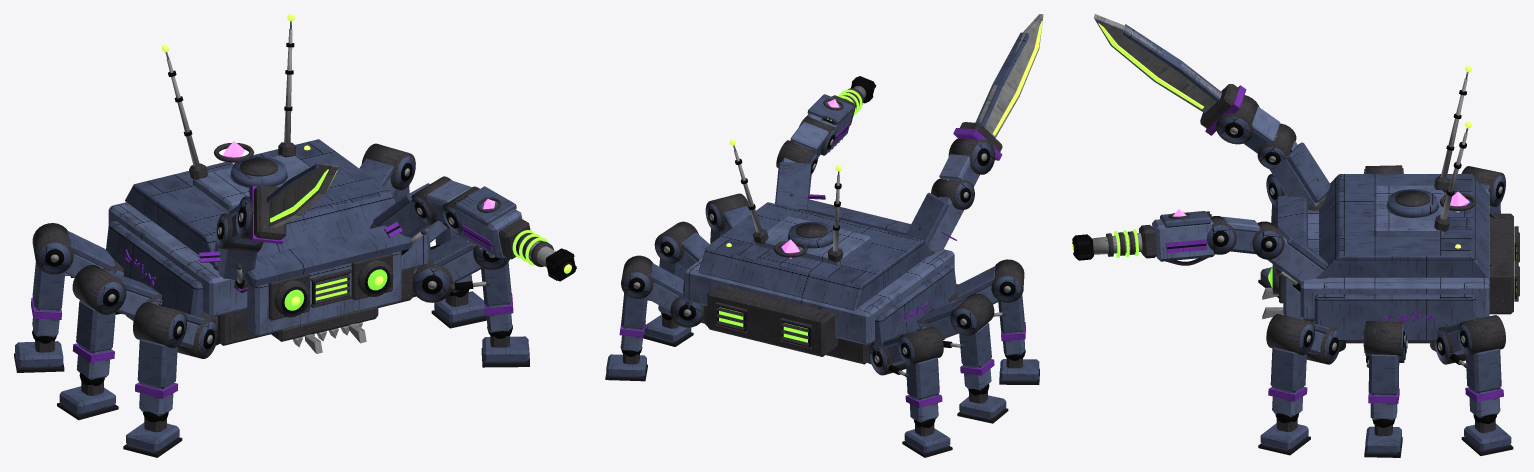
Rendered from alien_snapper.glb.
3 renders of one model, left to right at view 1: azimuth 30°, elevation 25°; view 2: azimuth 150°, elevation 25°; view 3: azimuth 270°, elevation 25°, orthographic. The views are drawn at different scales.
Visible parts, largest first — view 1: body_snapper_armor2, body_snapper_armor, body_snapper_frame, leg_R2_tibia_snapper_armor2, leg_R1_tibia_snapper_armor2, blade_R_snapper_metal, leg_R3_tibia_snapper_armor2, gun_L_snapper_frame, leg_R1_tibia_snapper_frame, gun_L_snapper_armor2, leg_L1_femur_snapper_armor2, blade_R_snapper_frame (+24 smaller); view 2: body_snapper_armor2, body_snapper_frame, body_snapper_armor, blade_R_snapper_metal, arm_L_snapper_armor2, leg_R3_tibia_snapper_armor2, leg_R2_tibia_snapper_armor2, blade_R_snapper_armor2, arm_R_snapper_armor2, leg_R1_tibia_snapper_armor2, leg_L3_tibia_snapper_armor2, leg_R3_tibia_snapper_frame (+29 smaller); view 3: body_snapper_armor2, body_snapper_armor, body_snapper_frame, blade_R_snapper_metal, blade_R_snapper_armor2, leg_L1_tibia_snapper_armor2, leg_L3_tibia_snapper_armor2, gun_L_snapper_armor, blade_R_snapper_frame, leg_L2_tibia_snapper_armor2, gun_L_snapper_frame, arm_R_snapper_armor2 (+22 smaller).
Part boxes in pixels (bbox=[...]): body_snapper_armor2: bbox=[106, 139, 431, 316]; body_snapper_armor: bbox=[108, 155, 428, 336]; body_snapper_frame: bbox=[214, 143, 413, 345]; leg_R2_tibia_snapper_armor2: bbox=[76, 282, 124, 353]; leg_R1_tibia_snapper_armor2: bbox=[137, 314, 186, 389]; blade_R_snapper_metal: bbox=[239, 164, 338, 228]; leg_R3_tibia_snapper_armor2: bbox=[32, 242, 70, 310]; gun_L_snapper_frame: bbox=[442, 186, 553, 266]; leg_R1_tibia_snapper_frame: bbox=[133, 302, 186, 348]; gun_L_snapper_armor2: bbox=[443, 186, 516, 233]; leg_L1_femur_snapper_armor2: bbox=[415, 235, 473, 300]; blade_R_snapper_frame: bbox=[236, 185, 286, 240]; body_snapper_armor2: bbox=[683, 199, 956, 355]; body_snapper_frame: bbox=[704, 223, 868, 364]; body_snapper_armor: bbox=[685, 216, 954, 345]; blade_R_snapper_metal: bbox=[979, 14, 1043, 160]; arm_L_snapper_armor2: bbox=[775, 162, 811, 211]; leg_R3_tibia_snapper_armor2: bbox=[898, 337, 939, 400]; leg_R2_tibia_snapper_armor2: bbox=[952, 308, 991, 367]; blade_R_snapper_armor2: bbox=[972, 32, 1028, 171]; arm_R_snapper_armor2: bbox=[905, 192, 949, 245]; leg_R1_tibia_snapper_armor2: bbox=[994, 276, 1024, 332]; leg_L3_tibia_snapper_armor2: bbox=[621, 272, 650, 329]; leg_R3_tibia_snapper_frame: bbox=[898, 326, 943, 377]; body_snapper_armor2: bbox=[1276, 174, 1488, 341]; body_snapper_armor: bbox=[1283, 185, 1489, 319]; body_snapper_frame: bbox=[1273, 190, 1519, 343]; blade_R_snapper_metal: bbox=[1094, 14, 1237, 134]; blade_R_snapper_armor2: bbox=[1123, 24, 1250, 142]; leg_L1_tibia_snapper_armor2: bbox=[1270, 324, 1314, 392]; leg_L3_tibia_snapper_armor2: bbox=[1458, 324, 1501, 393]; gun_L_snapper_armor: bbox=[1152, 219, 1215, 261]; blade_R_snapper_frame: bbox=[1200, 84, 1259, 144]; leg_L2_tibia_snapper_armor2: bbox=[1364, 323, 1404, 395]; gun_L_snapper_frame: bbox=[1106, 211, 1236, 258]; arm_R_snapper_armor2: bbox=[1286, 142, 1330, 202].
Size of the model in its own units: 15.55 by 12 by 15.88.
13 materials, 6 textured.
